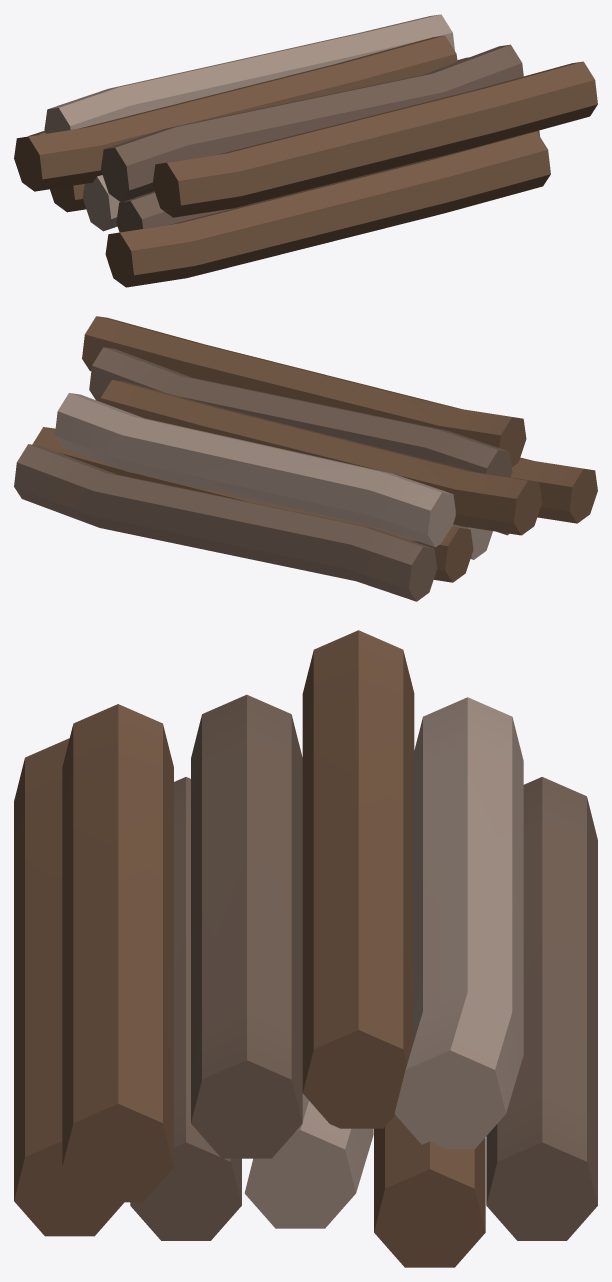
The model's file is TorasDeMadeira.fbx.
3 views of the same model, one above another, from view 1: azimuth 30°, elevation 25°; view 2: azimuth 150°, elevation 25°; view 3: azimuth 270°, elevation 25° (orthographic). The views are drawn at different scales.
Visible parts, largest first — view 1: pCylinder6, pCylinder5, pCylinder7, pCylinder9, pCylinder8, pCylinder4, pCylinder1, pCylinder2; view 2: pCylinder3, pCylinder8, pCylinder6, pCylinder9, pCylinder7, pCylinder2, pCylinder5, pCylinder1; view 3: pCylinder6, pCylinder9, pCylinder7, pCylinder8, pCylinder3, pCylinder5, pCylinder4, pCylinder2, pCylinder1.
Part boxes in pixels (bbox=[...]): pCylinder6: bbox=[152, 61, 597, 217]; pCylinder5: bbox=[105, 131, 550, 287]; pCylinder7: bbox=[101, 44, 523, 202]; pCylinder9: bbox=[14, 35, 457, 191]; pCylinder8: bbox=[44, 14, 454, 133]; pCylinder4: bbox=[116, 130, 539, 232]; pCylinder1: bbox=[82, 175, 120, 231]; pCylinder2: bbox=[50, 57, 468, 212]; pCylinder3: bbox=[14, 444, 437, 601]; pCylinder8: bbox=[55, 393, 455, 547]; pCylinder6: bbox=[82, 316, 526, 466]; pCylinder9: bbox=[100, 379, 542, 535]; pCylinder7: bbox=[89, 347, 512, 477]; pCylinder2: bbox=[32, 427, 473, 582]; pCylinder5: bbox=[511, 457, 597, 523]; pCylinder1: bbox=[452, 524, 492, 559]; pCylinder6: bbox=[62, 704, 173, 1202]; pCylinder9: bbox=[302, 630, 414, 1128]; pCylinder7: bbox=[191, 694, 302, 1158]; pCylinder8: bbox=[394, 697, 523, 1148]; pCylinder3: bbox=[486, 777, 597, 1240]; pCylinder5: bbox=[14, 738, 124, 1236]; pCylinder4: bbox=[130, 777, 241, 1240]; pCylinder2: bbox=[374, 1115, 485, 1267]; pCylinder1: bbox=[244, 1093, 373, 1228].
Size of the model in its own units: 12.15 by 2.45 by 6.35.
